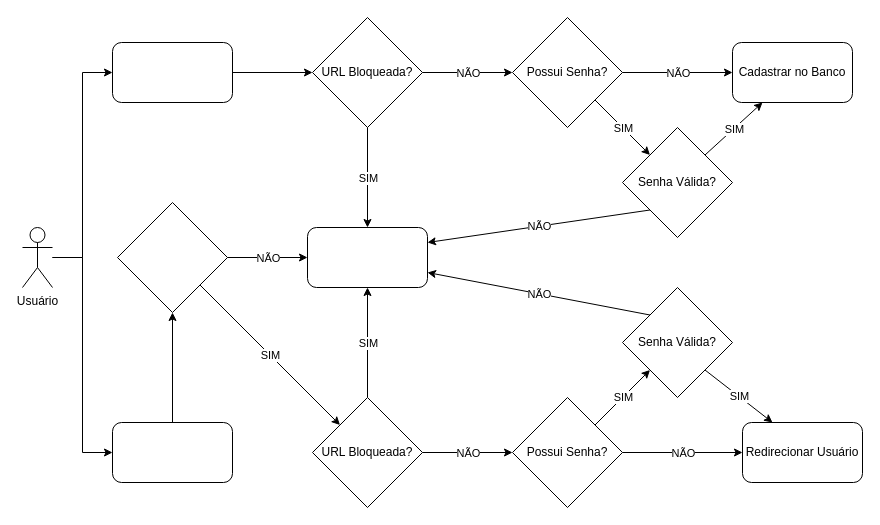
Image size: 880x525. Some labels were removed from this diagram. Here are the shapes that lost their labels. From the top down, the box of each, then its label:
(112, 42, 232, 102): Encurtar URL
(116, 202, 228, 312): URL Existe?
(306, 226, 428, 288): Exibe Aviso
(112, 422, 232, 482): Acessar URL
